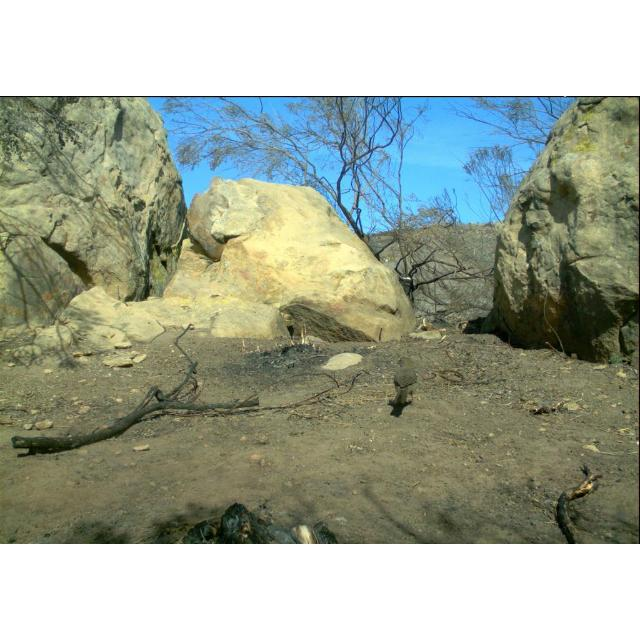animals: (388, 352, 419, 420)
